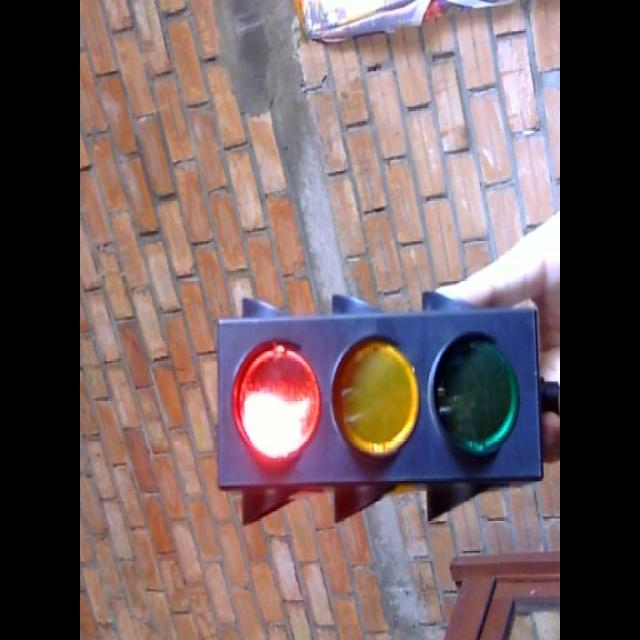red light: (224, 330, 326, 478)
